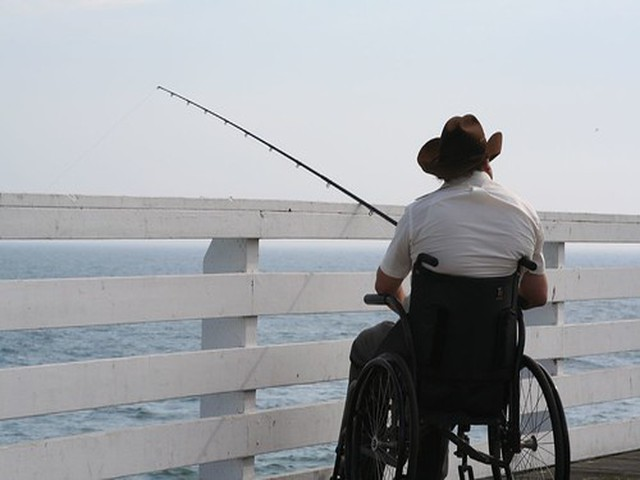Person: (350, 122, 581, 300)
